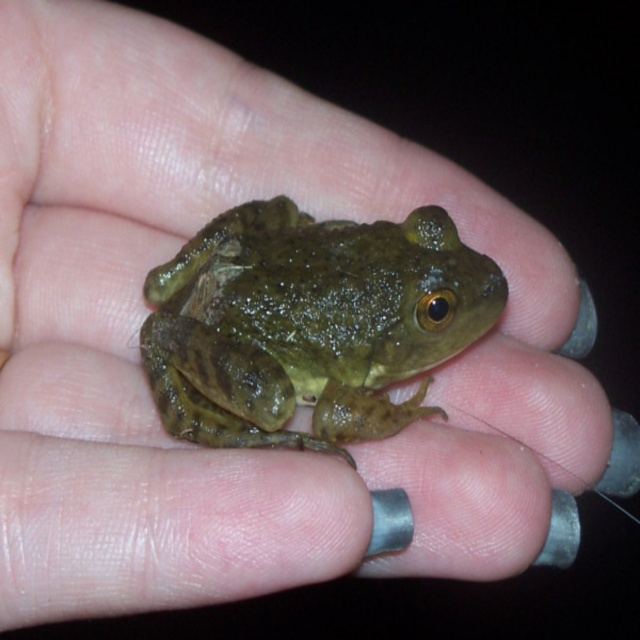Frog: (139, 193, 511, 471)
